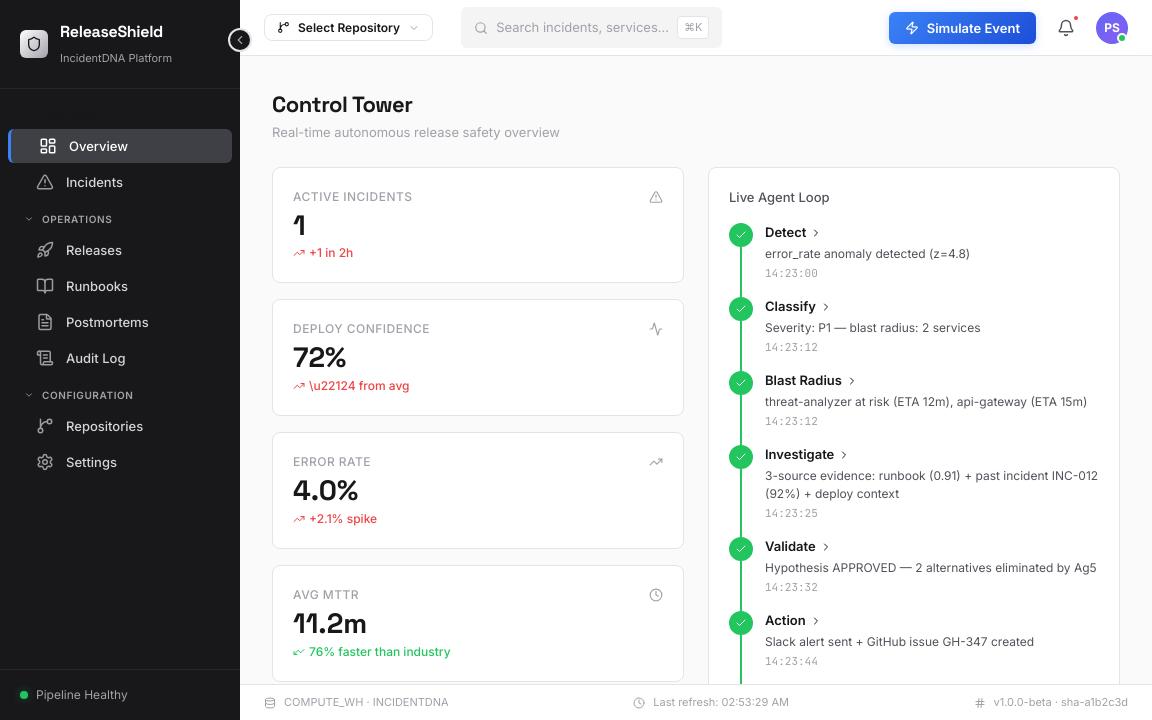
Integration — App Routing › navigates to Incidents page via sidebar
Click the button with id "nav-incidents" at (120, 182), box [8,165,232,199]
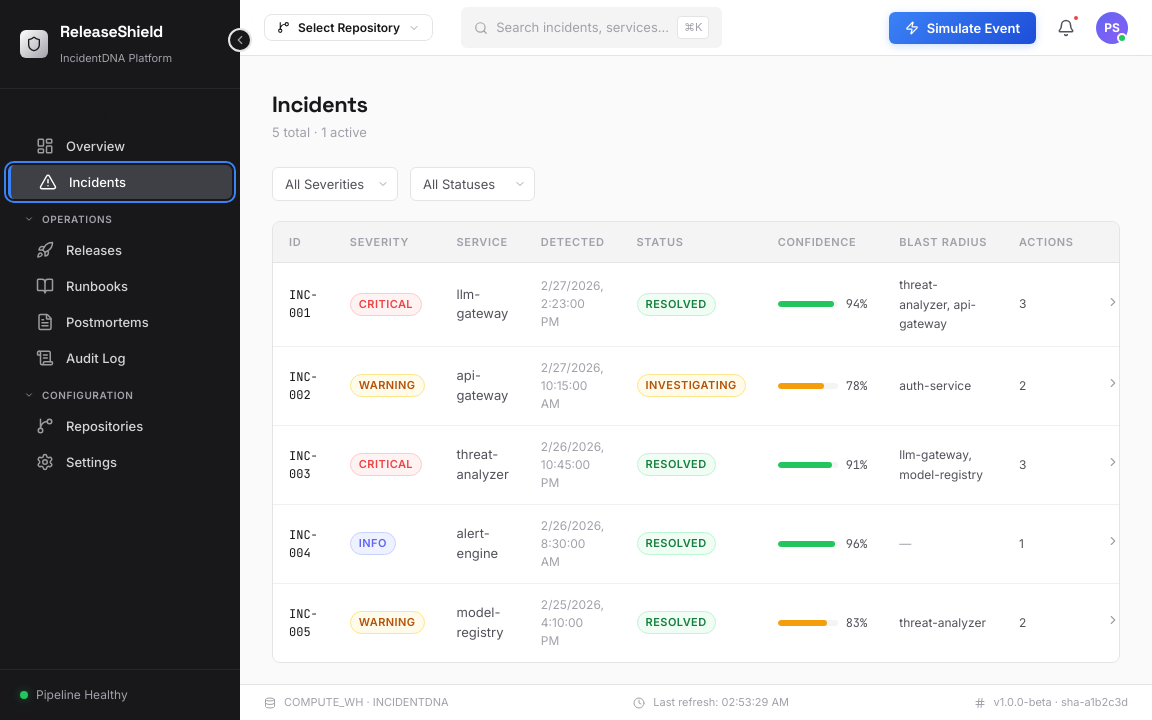
Check: the text "5 total · 1 active" is shown, box [272,123,368,142]
Check: the table with id "incidents-table" is shown, box [273,222,1120,662]
